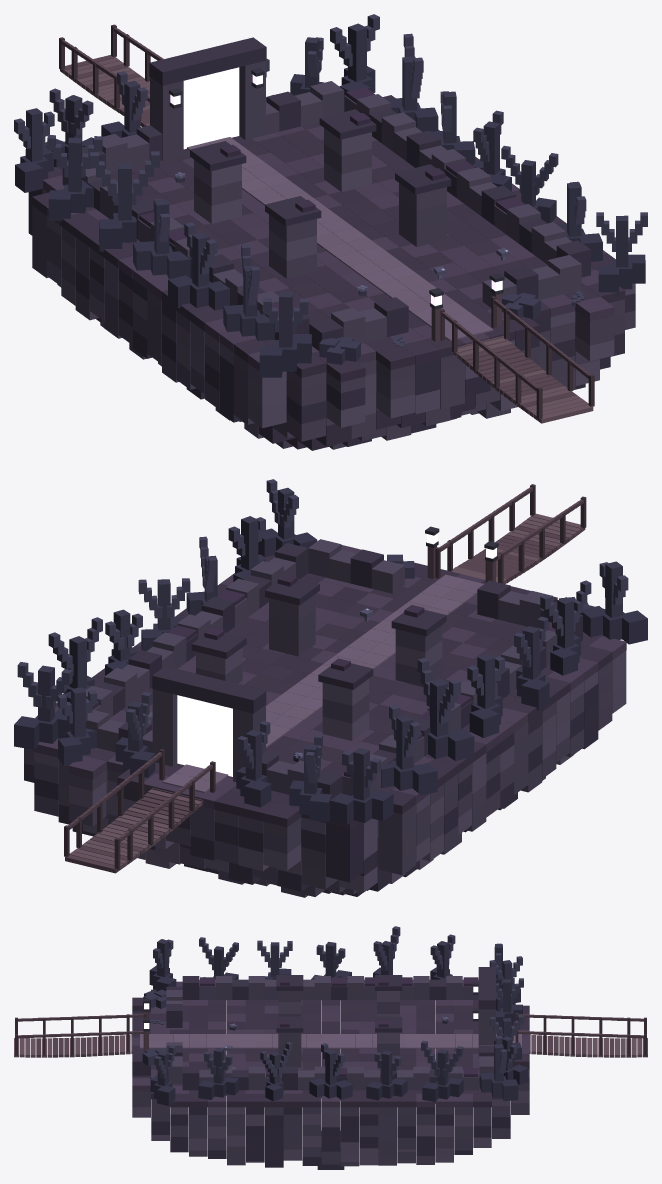
Rendered from room_pillars_polluted.glb.
3 renders of one model, top to bottom at view 1: azimuth 30°, elevation 25°; view 2: azimuth 150°, elevation 25°; view 3: azimuth 270°, elevation 25°, orthographic. The views are drawn at different scales.
Visible parts, largest first — view 1: room_pillars_blocks, tree2_(0, 0).002, tree0_(0, 0).001, tree4_(0, 0).001, tree4_(0, 0).002, tree1_(0, 0).001, tree0_(0, 0).003, tree0_(0, 0).002, tree1_(0, 0).003, tree2_(0, 0).001, tree5_(0, 0).002, tree5_(0, 0).001 (+8 smaller); view 2: room_pillars_blocks, tree1_(0, 0).003, tree2_(0, 0).002, tree0_(0, 0).003, tree0_(0, 0).001, tree4_(0, 0).002, tree2_(0, 0).001, tree0_(0, 0).002, tree4_(0, 0).001, tree3_(0, 0).003, tree4_(0, 0).003, tree1_(0, 0).001 (+7 smaller); view 3: room_pillars_blocks, tree5_(0, 0).002, tree3_(0, 0).001, tree1_(0, 0).002, tree1_(0, 0).003, tree3_(0, 0).002, tree1_(0, 0).001, tree5_(0, 0).001, tree0_(0, 0).001, tree4_(0, 0).003, tree4_(0, 0).001, tree2_(0, 0).001 (+6 smaller).
Part boxes in pixels (<box>): room_pillars_blocks: <box>28,24,635,450</box>; tree2_(0, 0).002: <box>90,151,159,251</box>; tree0_(0, 0).001: <box>259,291,311,377</box>; tree4_(0, 0).001: <box>168,222,229,310</box>; tree4_(0, 0).002: <box>47,135,102,221</box>; tree1_(0, 0).001: <box>596,212,647,294</box>; tree0_(0, 0).003: <box>14,108,54,192</box>; tree0_(0, 0).002: <box>133,199,190,279</box>; tree1_(0, 0).003: <box>330,14,379,95</box>; tree2_(0, 0).001: <box>223,244,274,340</box>; tree5_(0, 0).002: <box>386,33,438,131</box>; tree5_(0, 0).001: <box>501,145,558,223</box>; room_pillars_blocks: <box>24,484,626,897</box>; tree1_(0, 0).003: <box>14,662,72,749</box>; tree2_(0, 0).002: <box>417,657,474,760</box>; tree0_(0, 0).003: <box>329,748,393,824</box>; tree0_(0, 0).001: <box>580,561,647,644</box>; tree4_(0, 0).002: <box>381,705,437,795</box>; tree2_(0, 0).001: <box>540,580,591,675</box>; tree0_(0, 0).002: <box>467,654,504,737</box>; tree4_(0, 0).001: <box>514,616,549,710</box>; tree3_(0, 0).003: <box>57,687,97,765</box>; tree4_(0, 0).003: <box>236,721,271,807</box>; tree1_(0, 0).001: <box>258,479,317,556</box>; room_pillars_blocks: <box>14,967,647,1169</box>; tree5_(0, 0).002: <box>421,1040,463,1103</box>; tree3_(0, 0).001: <box>198,1047,238,1099</box>; tree1_(0, 0).002: <box>309,1043,352,1100</box>; tree1_(0, 0).003: <box>479,1036,518,1100</box>; tree3_(0, 0).002: <box>366,1050,407,1100</box>; tree1_(0, 0).001: <box>150,1045,175,1105</box>; tree5_(0, 0).001: <box>260,1042,292,1101</box>; tree0_(0, 0).001: <box>149,939,176,991</box>; tree4_(0, 0).003: <box>496,978,523,1028</box>; tree4_(0, 0).001: <box>257,940,292,979</box>; tree2_(0, 0).001: <box>199,937,238,979</box>.
Bounding box in the file's own units: 18.21 × 12.1 × 38.5.
